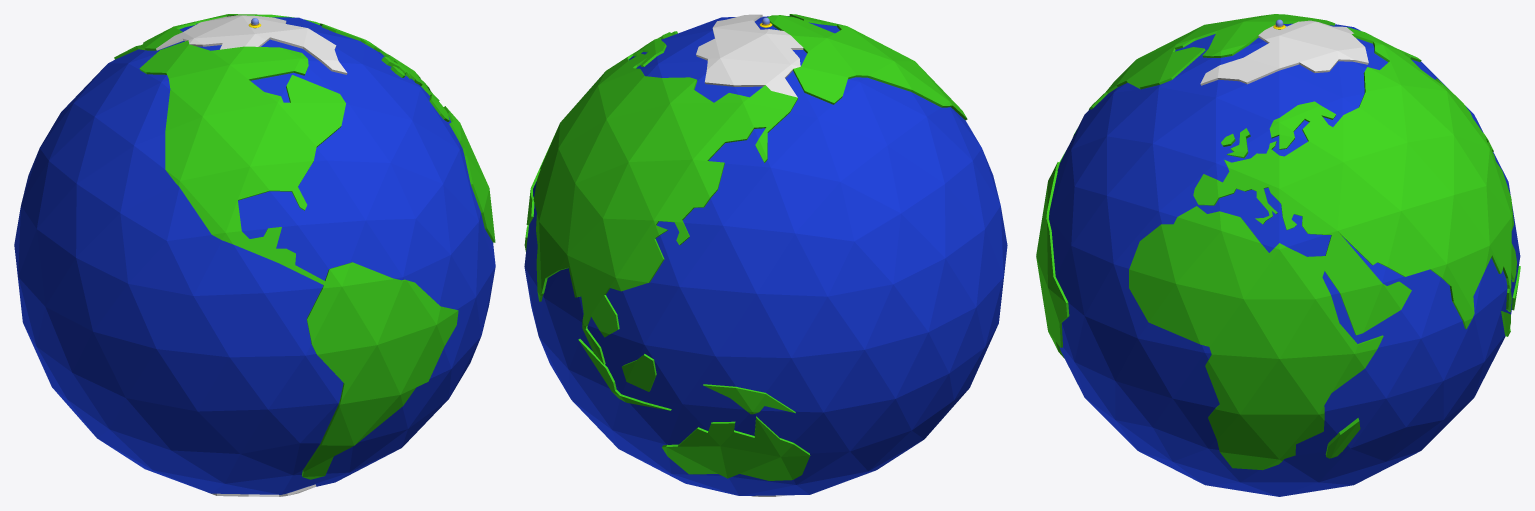
File: planet_cam_ufo2.gltf
3 renders of one model, left to right at view 1: azimuth 30°, elevation 25°; view 2: azimuth 150°, elevation 25°; view 3: azimuth 270°, elevation 25°, orthographic.
Visible parts, largest first — view 1: Icosphere.001; view 2: Icosphere.001; view 3: Icosphere.001.
Part boxes in pixels (x1,y1,x2,y2): Icosphere.001: (14, 14, 495, 496); Icosphere.001: (524, 14, 1007, 496); Icosphere.001: (1036, 14, 1520, 496).
Size of the model in its own units: 78.45 by 81.66 by 78.53.
